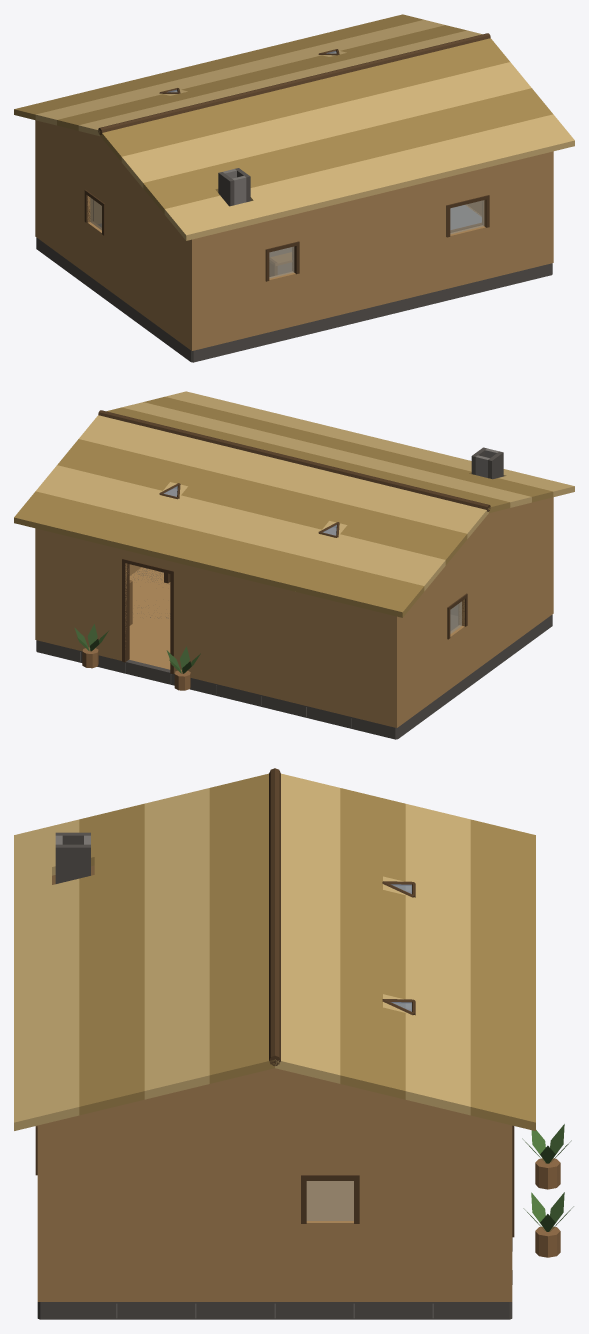
File: SM_CASA_02_CASA_MEDIANA_ALTA.glb
The picture shows the model from 3 angles, top to bottom: view 1: azimuth 30°, elevation 25°; view 2: azimuth 150°, elevation 25°; view 3: azimuth 270°, elevation 25°; orthographic projection. The views are drawn at different scales.
Visible parts, largest first — view 1: SM_Techo_Izq, SM_Pared_Norte, SM_Pared_Oeste, SM_Techo_Der, SM_Cimiento, SM_Cumbrera, SM_Chimenea_Exterior, SM_Cama_Doble, SM_Pared_Interior, SM_Pared_Sur, SM_Pared_Este; view 2: SM_Techo_Der, SM_Pared_Sur, SM_Pared_Oeste, SM_Techo_Izq, SM_Cimiento, SM_Suelo_Dormitorio, SM_Cumbrera, SM_Chimenea_Exterior, SM_Pared_Este, SM_Pared_Interior; view 3: SM_Pared_Este, SM_Techo_Der, SM_Techo_Izq, SM_Cimiento, SM_Pared_Sur, SM_Cumbrera, SM_Suelo_Dormitorio, SM_Chimenea_Exterior, SM_Pared_Norte.
Boxes of the visible parts, left/top/right/bottom form: SM_Techo_Izq: left=100, top=38, right=574, bottom=240; SM_Pared_Norte: left=189, top=152, right=553, bottom=350; SM_Pared_Oeste: left=35, top=120, right=197, bottom=350; SM_Techo_Der: left=14, top=14, right=482, bottom=136; SM_Cimiento: left=36, top=204, right=552, bottom=362; SM_Cumbrera: left=98, top=33, right=490, bottom=134; SM_Chimenea_Exterior: left=218, top=168, right=250, bottom=206; SM_Cama_Doble: left=450, top=205, right=481, bottom=232; SM_Pared_Interior: left=370, top=195, right=375, bottom=307; SM_Pared_Sur: left=35, top=122, right=101, bottom=238; SM_Pared_Este: left=467, top=151, right=553, bottom=259; SM_Techo_Der: left=14, top=415, right=488, bottom=617; SM_Pared_Sur: left=35, top=530, right=399, bottom=726; SM_Pared_Oeste: left=391, top=497, right=553, bottom=727; SM_Techo_Izq: left=106, top=391, right=574, bottom=513; SM_Cimiento: left=36, top=568, right=552, bottom=739; SM_Suelo_Dormitorio: left=129, top=567, right=170, bottom=669; SM_Cumbrera: left=98, top=410, right=490, bottom=511; SM_Chimenea_Exterior: left=471, top=447, right=503, bottom=479; SM_Pared_Este: left=35, top=489, right=177, bottom=640; SM_Pared_Interior: left=213, top=527, right=336, bottom=683; SM_Pared_Este: left=37, top=1068, right=512, bottom=1301; SM_Techo_Der: left=275, top=773, right=535, bottom=1130; SM_Techo_Izq: left=14, top=773, right=274, bottom=1130; SM_Cimiento: left=37, top=1237, right=512, bottom=1319; SM_Pared_Sur: left=502, top=1124, right=573, bottom=1301; SM_Cumbrera: left=269, top=768, right=280, bottom=1065; SM_Suelo_Dormitorio: left=307, top=1181, right=353, bottom=1218; SM_Chimenea_Exterior: left=55, top=832, right=90, bottom=883; SM_Pared_Norte: left=35, top=1123, right=47, bottom=1301.
Size of the model in its own units: 8.6 by 3.83 by 7.09.
